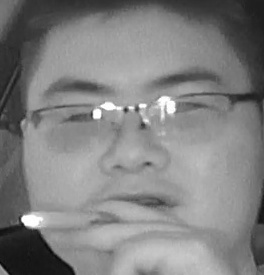glass: (144, 91, 233, 144), (32, 101, 120, 151)
